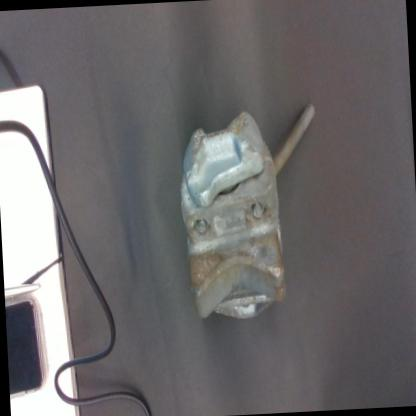Twistlock: (171, 93, 327, 333)
